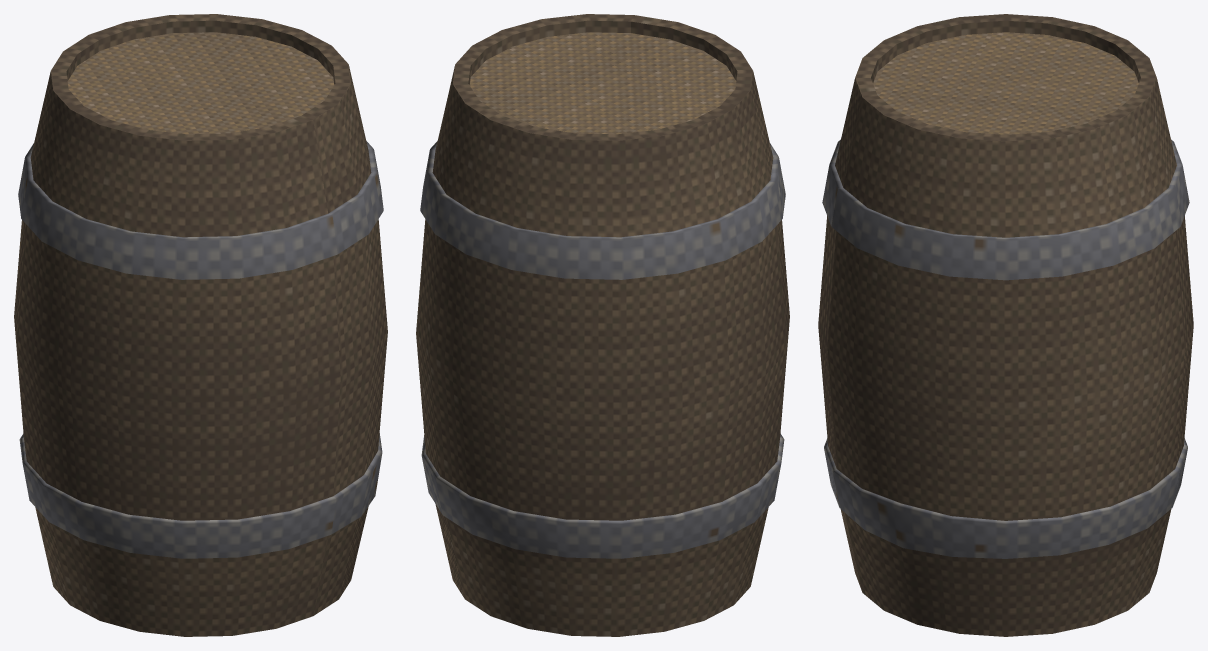
The model's file is barrel1.fbx.
3 views of the same model, side by side, from view 1: azimuth 30°, elevation 25°; view 2: azimuth 150°, elevation 25°; view 3: azimuth 270°, elevation 25° (orthographic).
Parts seen in each view (by area): view 1: barrel1; view 2: barrel1; view 3: barrel1.
Part boxes in pixels (x1,y1,x2,y2): barrel1: [14, 14, 387, 636]; barrel1: [416, 14, 789, 636]; barrel1: [818, 14, 1193, 636].
Bounding box in the file's own units: 2.96 × 4.3 × 2.96.
